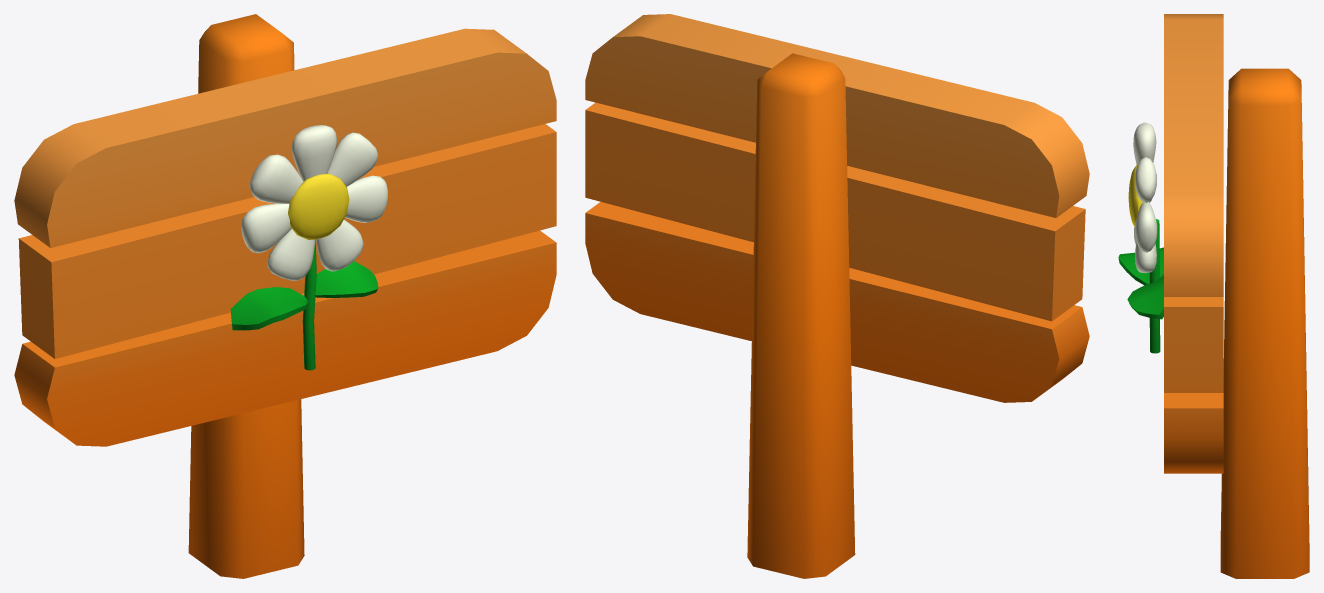
The model's file is Farm_Crop_Sign_Daisy_01.fbx.
3 views of the same model, side by side, from view 1: azimuth 30°, elevation 25°; view 2: azimuth 150°, elevation 25°; view 3: azimuth 270°, elevation 25° (orthographic). The views are drawn at different scales.
Visible parts, largest first — view 1: Farm_Crop_Sign_Daisy_01; view 2: Farm_Crop_Sign_Daisy_01; view 3: Farm_Crop_Sign_Daisy_01.
Part boxes in pixels (<box>): Farm_Crop_Sign_Daisy_01: <box>14,14,556,578</box>; Farm_Crop_Sign_Daisy_01: <box>585,14,1089,578</box>; Farm_Crop_Sign_Daisy_01: <box>1118,14,1309,578</box>.
Size of the model in its own units: 90.11 by 88.8 by 31.95.
